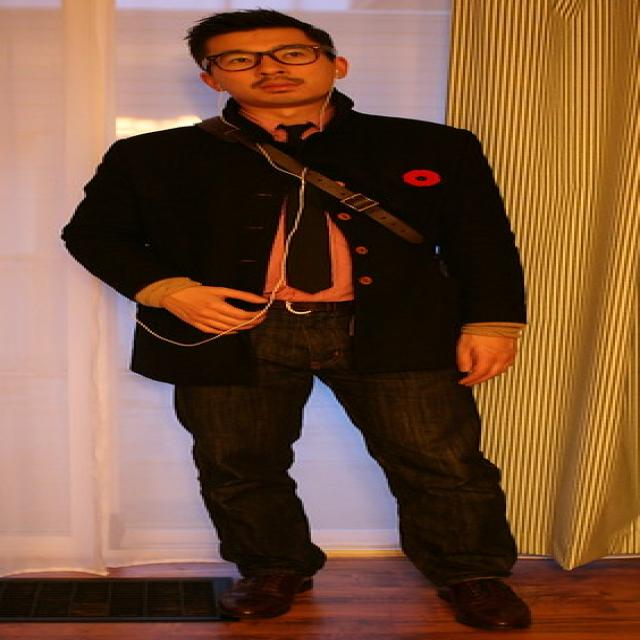standing: (52, 12, 560, 632)
